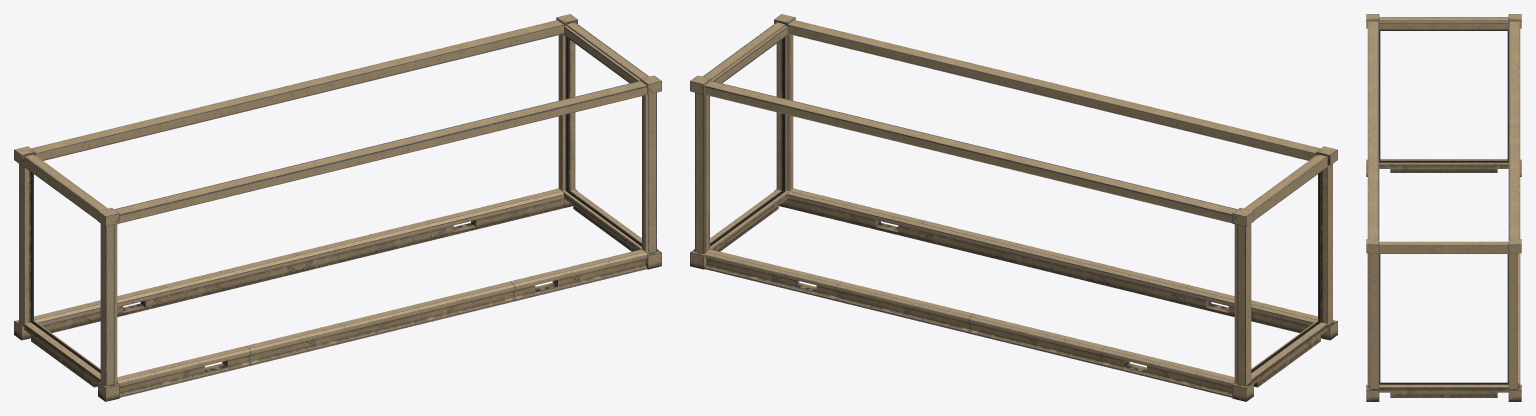
The model's file is CnFrameA3.fbx.
The picture shows the model from 3 angles, left to right: view 1: azimuth 30°, elevation 25°; view 2: azimuth 150°, elevation 25°; view 3: azimuth 270°, elevation 25°; orthographic projection. The views are drawn at different scales.
Visible parts, largest first — view 1: CnFrameA3; view 2: CnFrameA3; view 3: CnFrameA3.
Boxes of the visible parts, x1,y1,x2,y2 form: CnFrameA3: (14, 14, 661, 401); CnFrameA3: (690, 14, 1337, 401); CnFrameA3: (1366, 14, 1521, 401).
Bounding box in the file's own units: 842 × 268 × 240.
